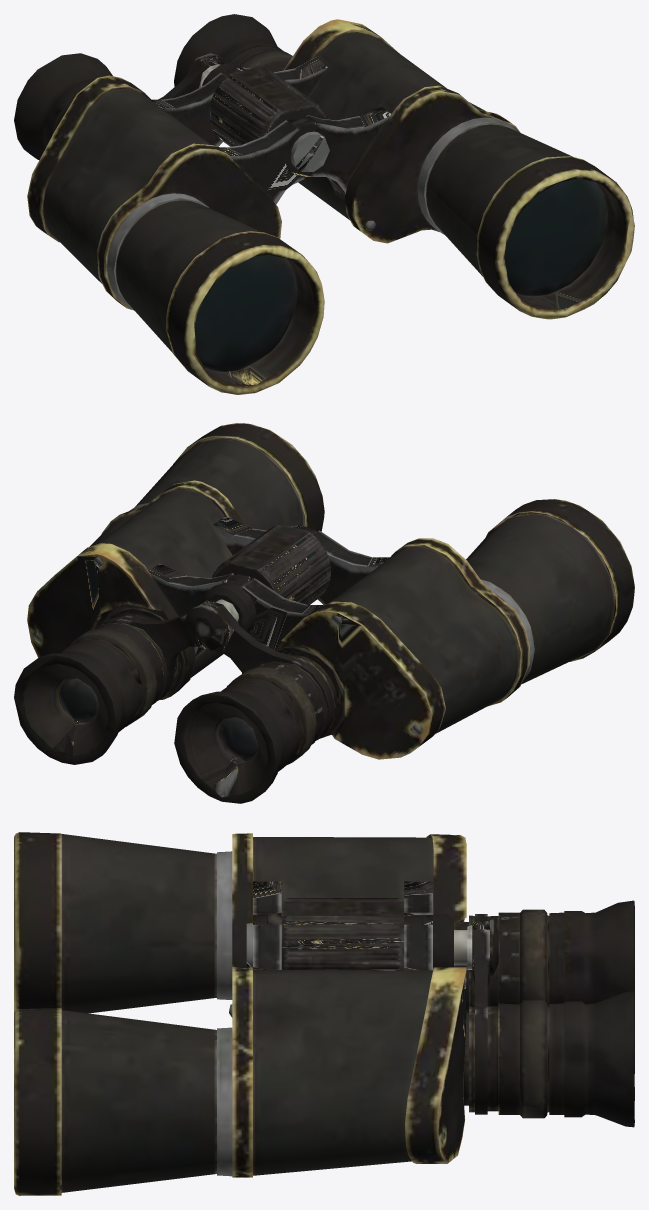
Rendered from vintage_binocular.glb.
3 views of the same model, one above another, from view 1: azimuth 30°, elevation 25°; view 2: azimuth 150°, elevation 25°; view 3: azimuth 270°, elevation 25° (orthographic). The views are drawn at different scales.
Visible parts, largest first — view 1: vintage_binocular_left_lens; view 2: vintage_binocular_left_lens; view 3: vintage_binocular_left_lens.
Part boxes in pixels (bbox=[...]): vintage_binocular_left_lens: bbox=[14, 14, 634, 394]; vintage_binocular_left_lens: bbox=[14, 423, 634, 803]; vintage_binocular_left_lens: bbox=[14, 832, 634, 1195].
Bounding box in the file's own units: 0.194 × 0.0684 × 0.1992.
1 material, 1 textured.
